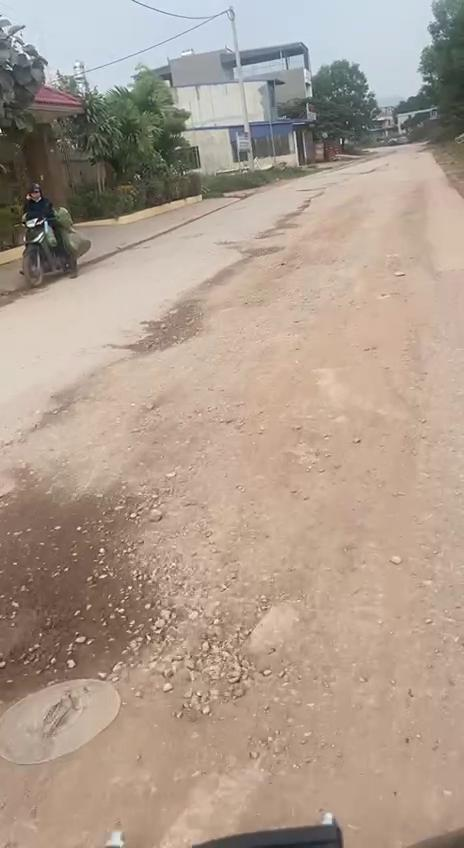pothole: (0, 504, 124, 706)
